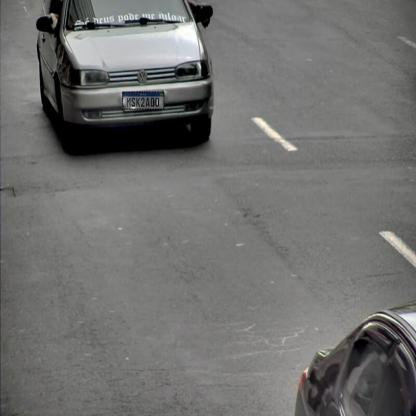PlacaM: (122, 92, 164, 110)
